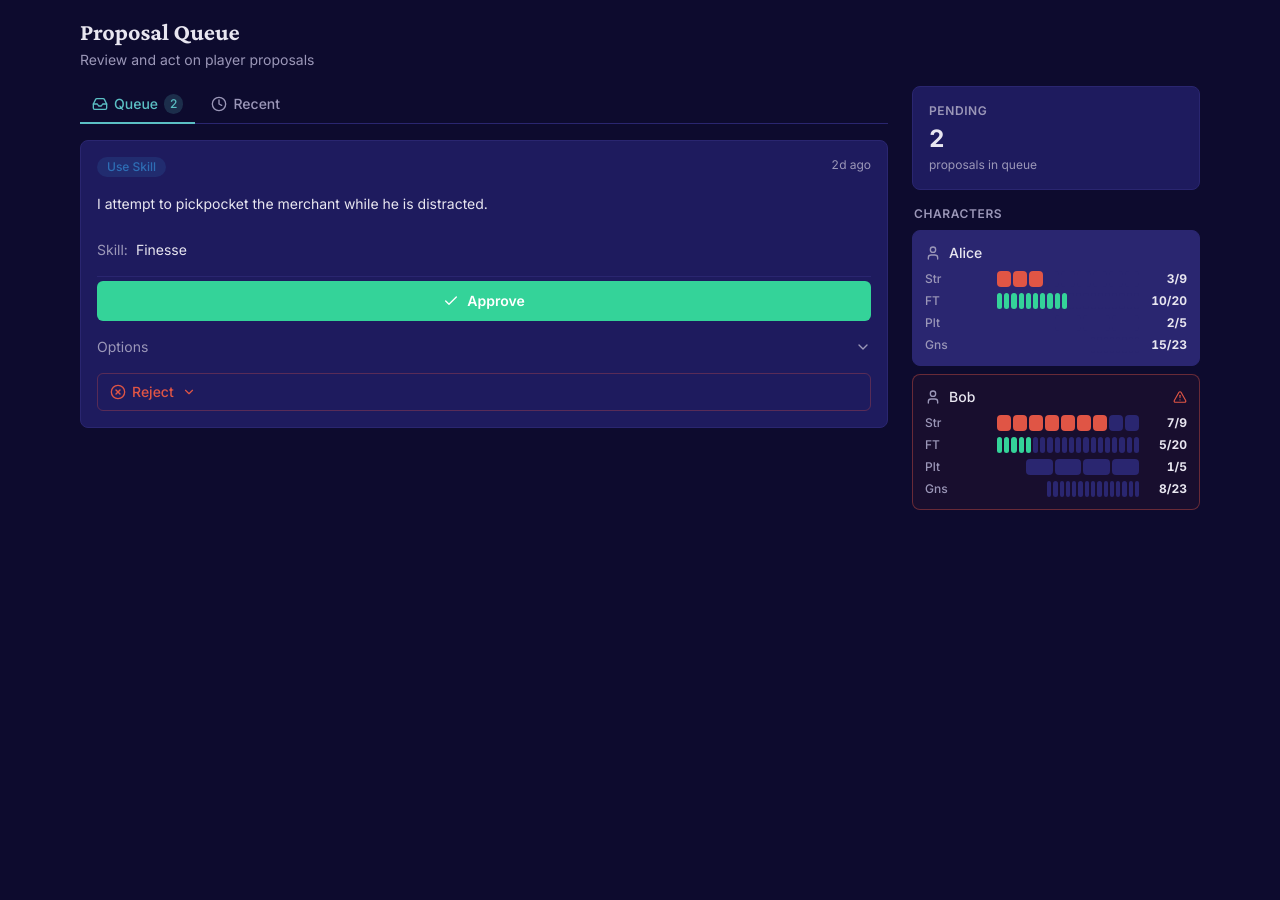
Test: gm-queue: quick approve › approve 409 (already resolved) shows error toast
Click the button with aria-label "Approve proposal".
click(484, 301)  # box [97,281,871,321]
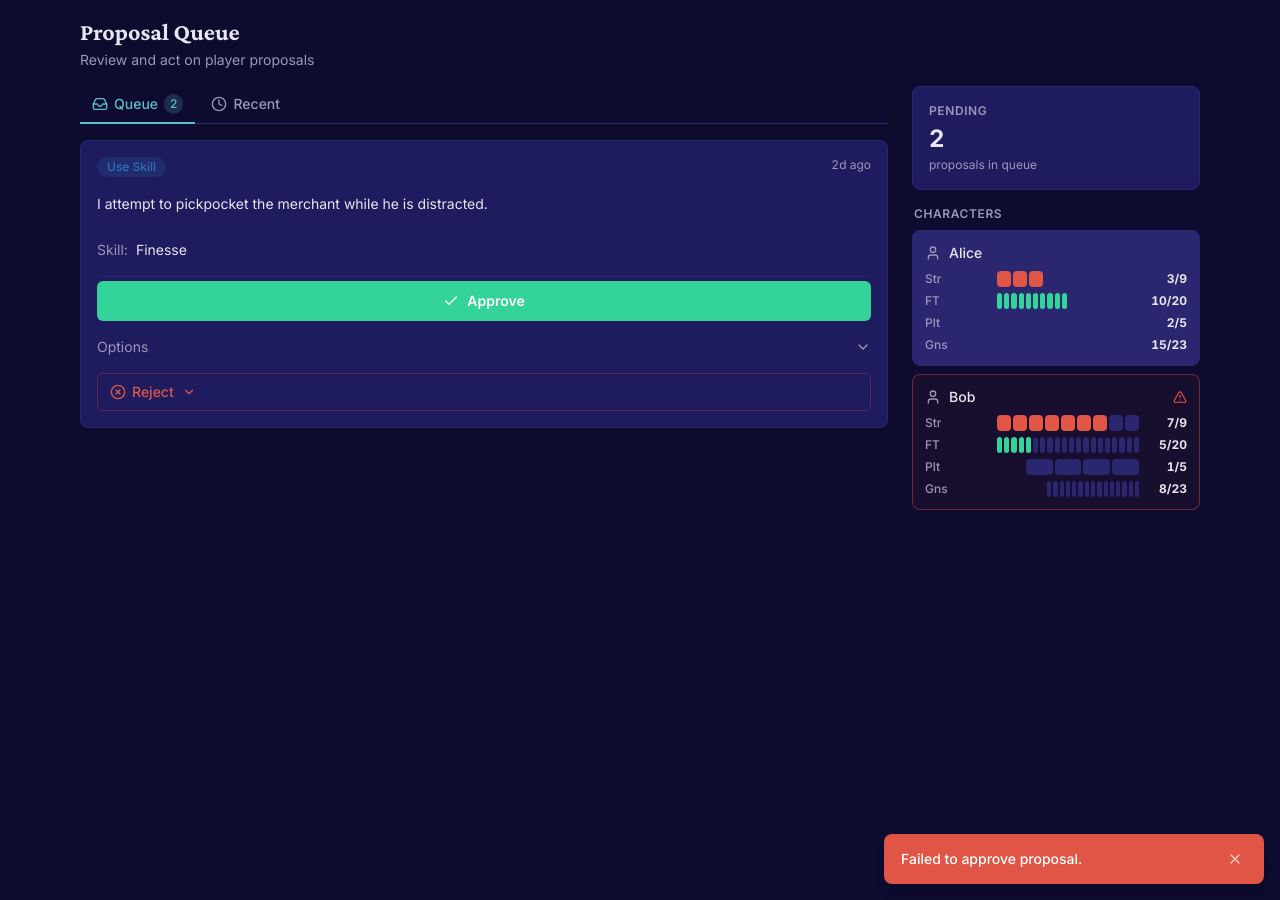
Result: the text "Failed to approve proposal." is shown at [901,849,1082,869]
